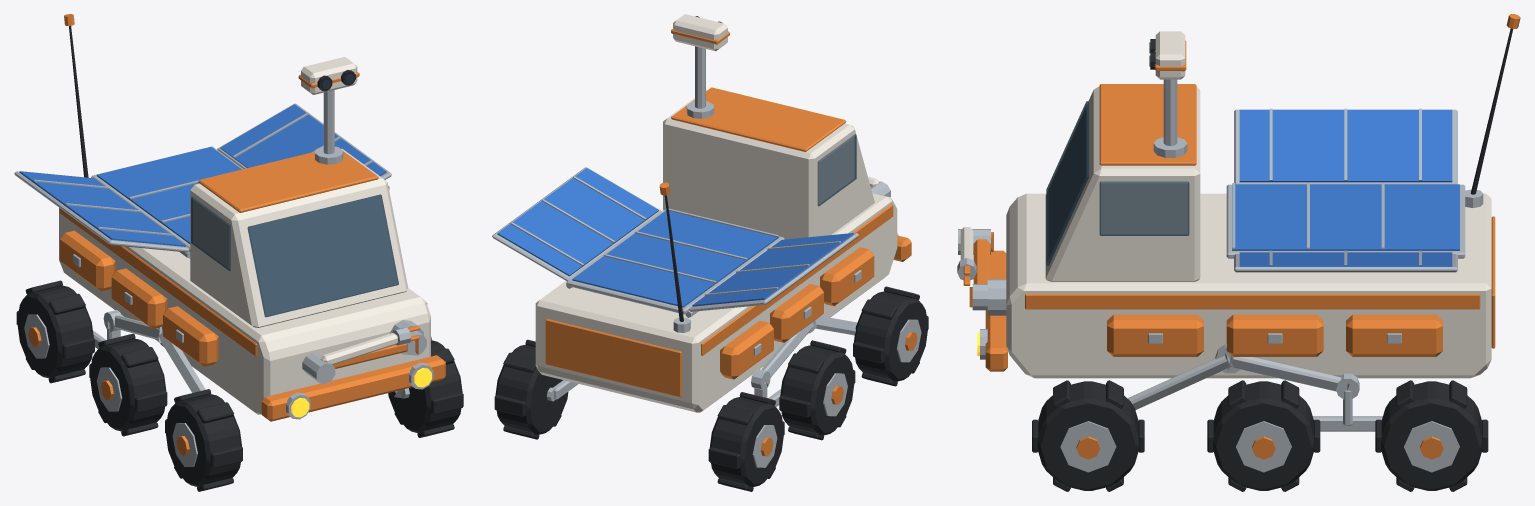
The model's file is six-wheeled-planetary-rover.glb.
3 renders of one model, left to right at view 1: azimuth 30°, elevation 25°; view 2: azimuth 150°, elevation 25°; view 3: azimuth 270°, elevation 25°, orthographic. The views are drawn at different scales.
Parts seen in each view (by area): view 1: Cockpit, Hull, Windshield, CockpitRoofTrim, SolarCells_C, SolarCells_L, SolarCells_R, Wheel_RL, Wheel_ML, Bumper, Wheel_FL, Wheel_FR (+25 smaller); view 2: Cockpit, Hull, SolarCells_C, SolarCells_R, RearPanel, CockpitRoofTrim, SolarCells_L, Wheel_ML, Wheel_RL, Wheel_FL, Wheel_RR, Pod_L3 (+23 smaller); view 3: Hull, Cockpit, SolarCells_L, SolarCells_C, Stripe_R, CockpitRoofTrim, Wheel_MR, Wheel_RR, Wheel_FR, SideWindow_R, Pod_R2, Pod_R1 (+19 smaller).
Boxes of the visible parts, box(x1,y1,x2,y2) form: Cockpit: box(190, 148, 408, 327); Hull: box(59, 208, 430, 414); Windshield: box(247, 194, 398, 317); CockpitRoofTrim: box(198, 146, 378, 212); SolarCells_C: box(96, 147, 241, 243); SolarCells_L: box(19, 171, 185, 246); SolarCells_R: box(220, 104, 386, 176); Wheel_RL: box(17, 285, 93, 378); Wheel_ML: box(89, 338, 166, 431); Bumper: box(261, 355, 445, 421); Wheel_FL: box(165, 394, 241, 486); Wheel_FR: box(388, 340, 462, 433); Cockpit: box(663, 89, 874, 239); Hull: box(535, 193, 897, 412); SolarCells_C: box(572, 210, 778, 307); SolarCells_R: box(497, 168, 658, 276); RearPanel: box(545, 319, 681, 397); CockpitRoofTrim: box(671, 87, 846, 151); SolarCells_L: box(692, 233, 853, 306); Wheel_ML: box(780, 345, 854, 435); Wheel_RL: box(709, 397, 784, 487); Wheel_FL: box(853, 291, 928, 381); Wheel_RR: box(495, 344, 568, 434); Pod_L3: box(720, 320, 773, 379); Hull: box(1006, 193, 1491, 378); Cockpit: box(1045, 86, 1200, 281); SolarCells_L: box(1239, 109, 1452, 182); SolarCells_C: box(1232, 184, 1459, 250); Stripe_R: box(1025, 294, 1480, 309); CockpitRoofTrim: box(1099, 84, 1196, 165); Wheel_MR: box(1213, 381, 1314, 490); Wheel_RR: box(1381, 381, 1482, 490); Wheel_FR: box(1037, 381, 1139, 490); SideWindow_R: box(1099, 181, 1189, 235); Pod_R2: box(1226, 314, 1323, 356); Pod_R1: box(1107, 314, 1203, 356).
Bounding box in the file's own units: 10.12 × 12.04 × 15.09.
